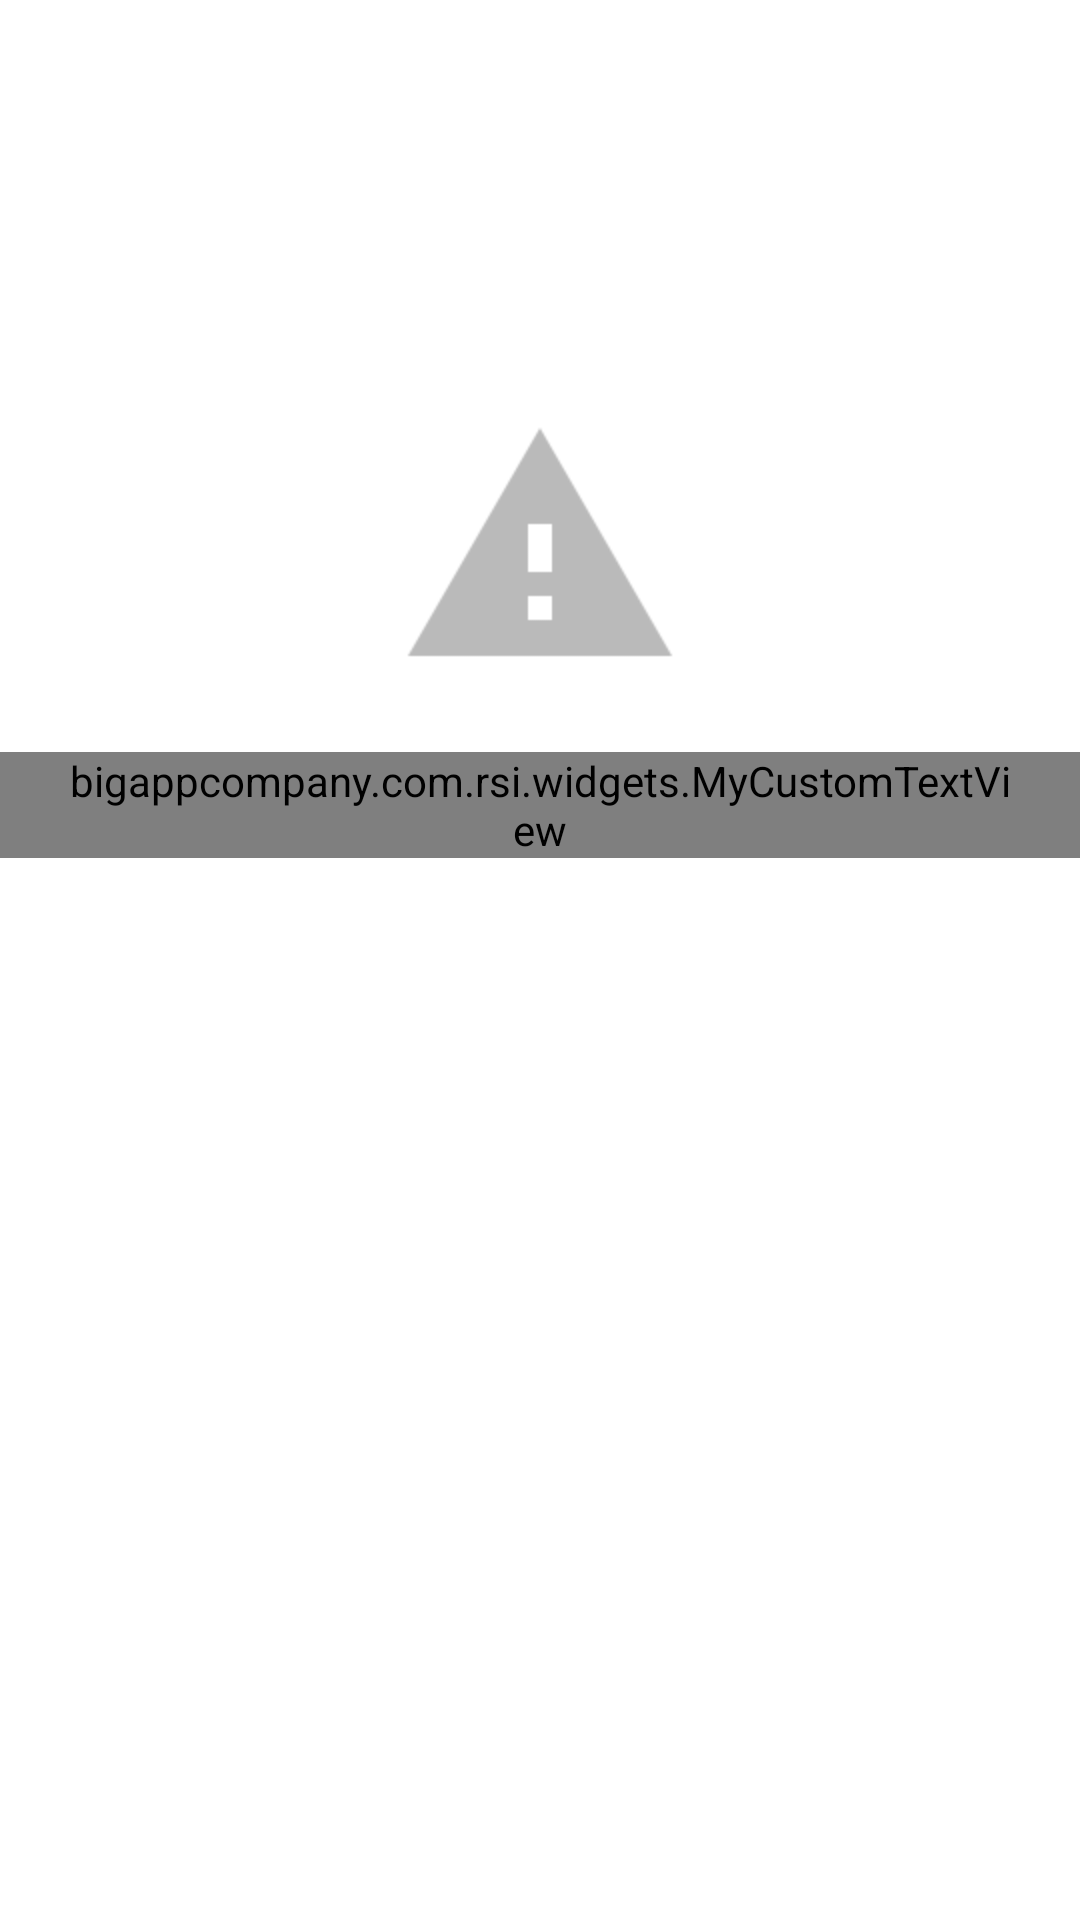

Icon click points for this 1080 × 1920 phone screenshot, format [x,y]:
error: [540,542]
